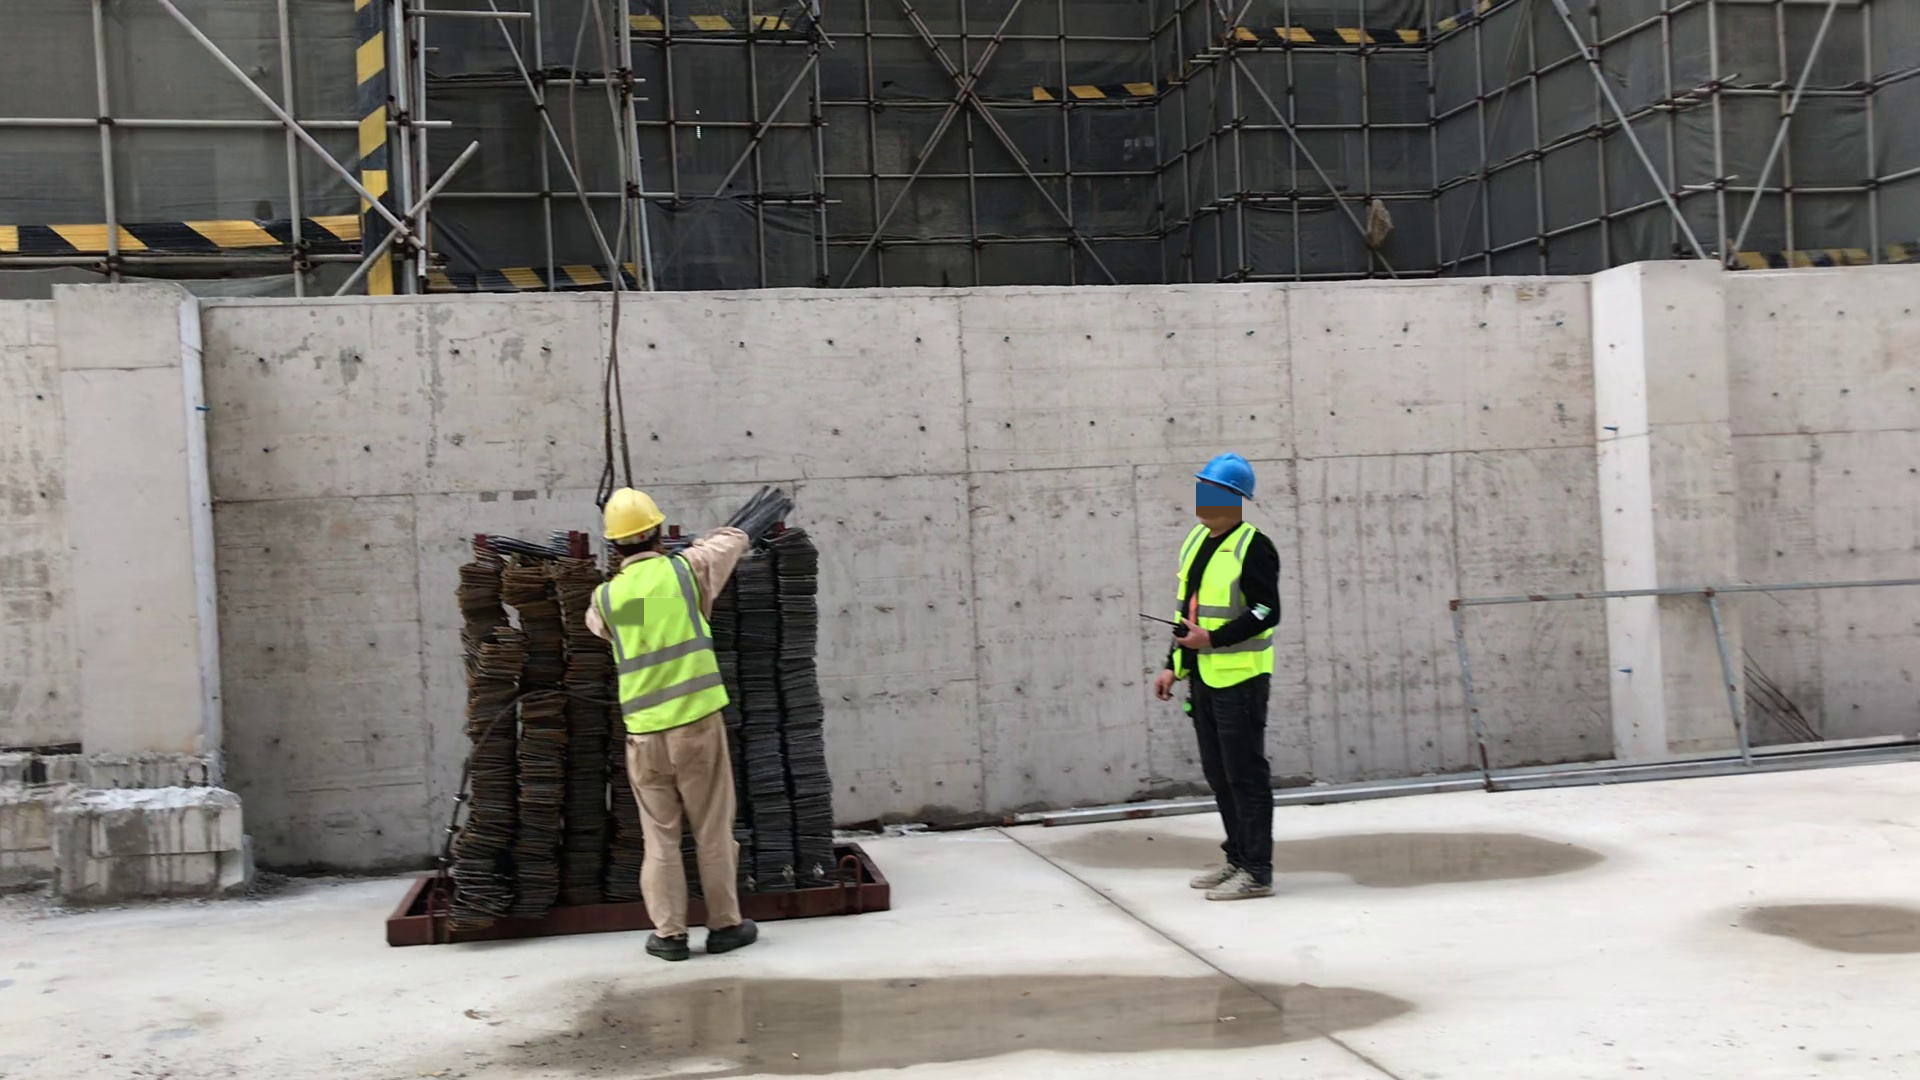helmet: (593, 477, 670, 538), (1193, 442, 1261, 501)
person: (581, 493, 767, 962), (1158, 438, 1296, 929)
vest: (587, 574, 735, 719), (1168, 534, 1289, 679)
